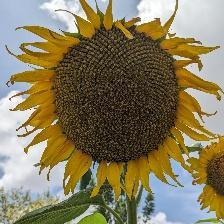sunflower: (14, 4, 218, 199)
